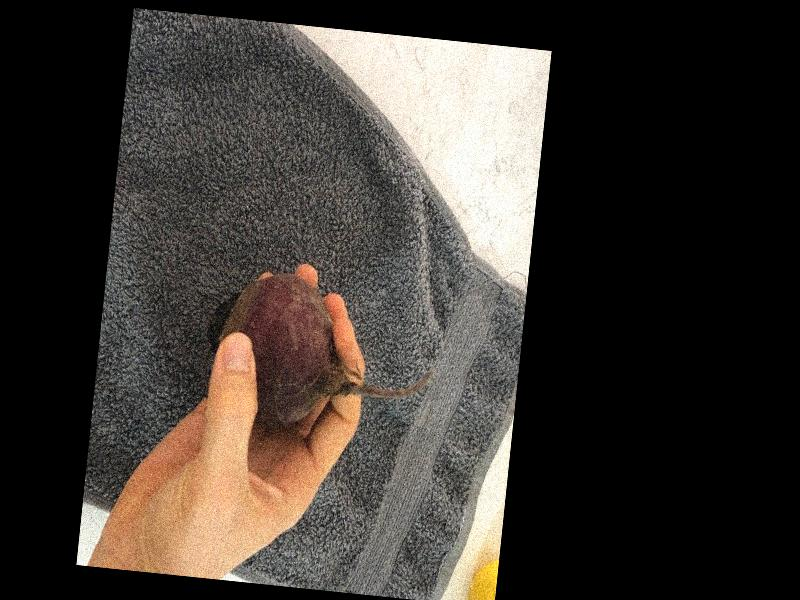Beet: (199, 266, 442, 442)
